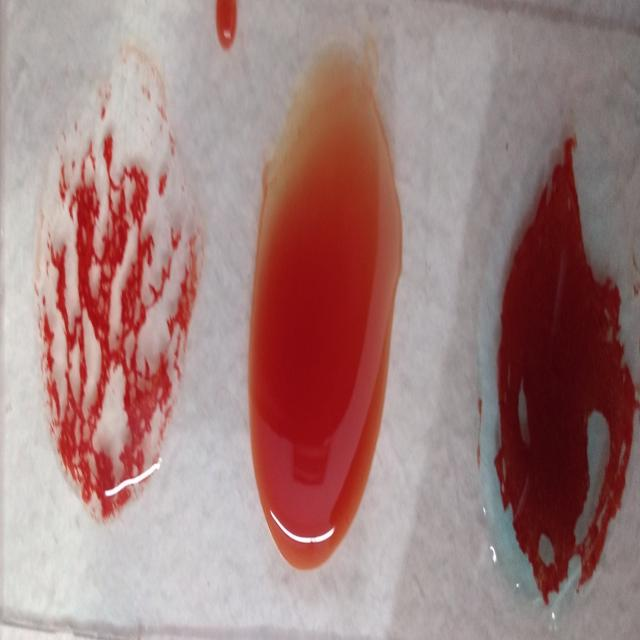A: (477, 153, 636, 632)
D: (39, 74, 194, 517)
